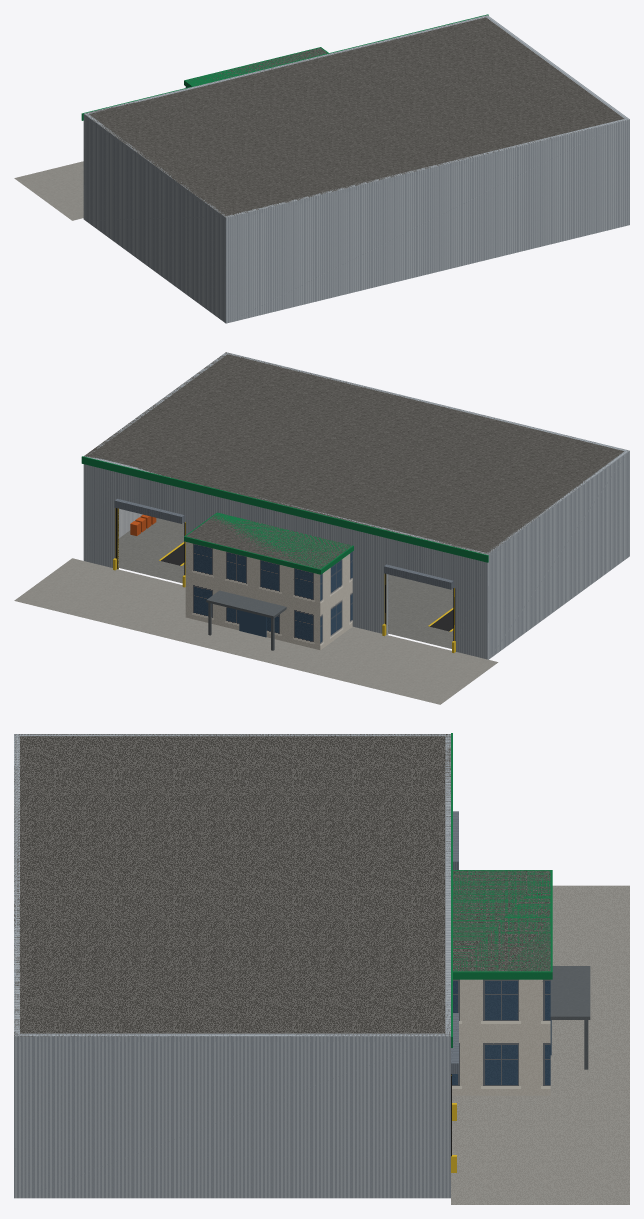
File: truck_depot.glb
3 renders of one model, top to bottom at view 1: azimuth 30°, elevation 25°; view 2: azimuth 150°, elevation 25°; view 3: azimuth 270°, elevation 25°, orthographic. The views are drawn at different scales.
Parts seen in each view (by area): view 1: truck_depot; view 2: truck_depot; view 3: truck_depot.
Part boxes in pixels (x1,y1,x2,y2): truck_depot: (14, 14, 629, 323); truck_depot: (14, 352, 629, 704); truck_depot: (14, 733, 629, 1204).
Size of the model in its own units: 38 by 9 by 31.
18 materials, 18 textured.
